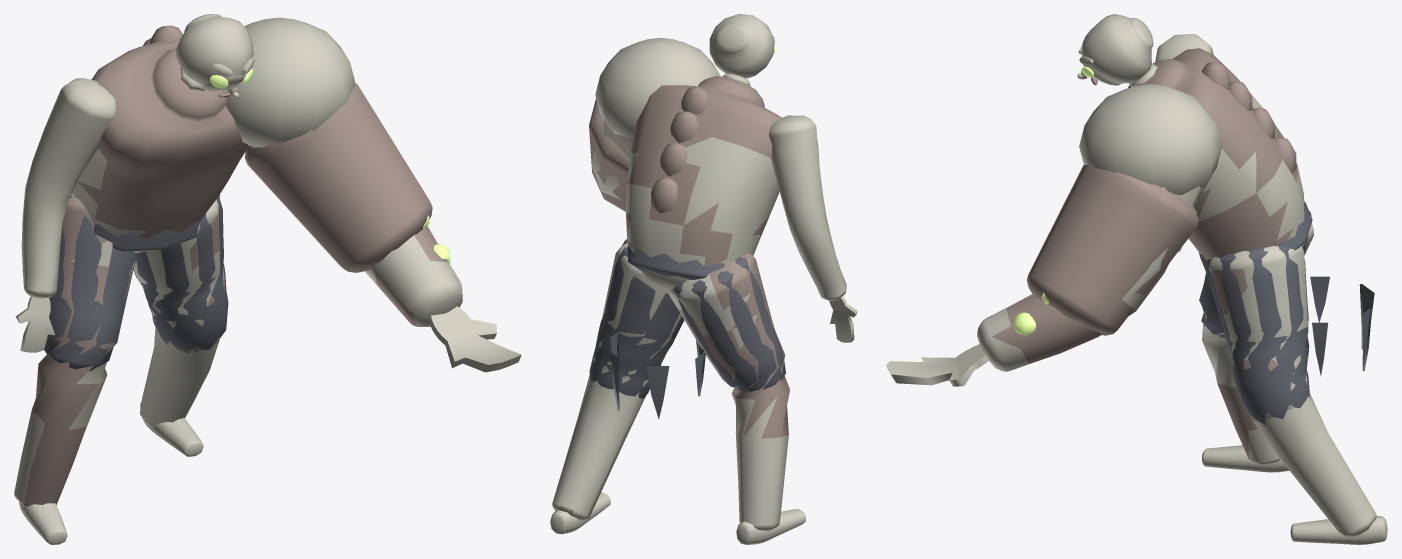
File: undead-horde-and-infected-variants-brute-boss-infected-c135f27a__12007.glb
The picture shows the model from 3 angles, left to right: view 1: azimuth 30°, elevation 25°; view 2: azimuth 150°, elevation 25°; view 3: azimuth 270°, elevation 25°; orthographic projection. The views are drawn at different scales.
Visible parts, largest first — view 1: brute-boss-infected; view 2: brute-boss-infected; view 3: brute-boss-infected.
Boxes of the visible parts, x1=… form: brute-boss-infected: x1=14, y1=14, x2=521, y2=544; brute-boss-infected: x1=550, y1=14, x2=857, y2=544; brute-boss-infected: x1=886, y1=14, x2=1387, y2=544.
Bounding box in the file's own units: 1.6 × 2.25 × 2.05.
